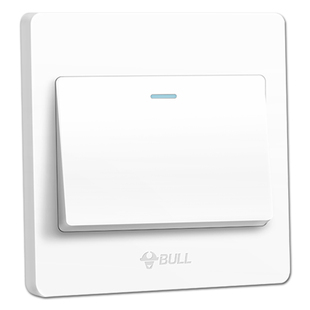button: (21, 11, 294, 288)
